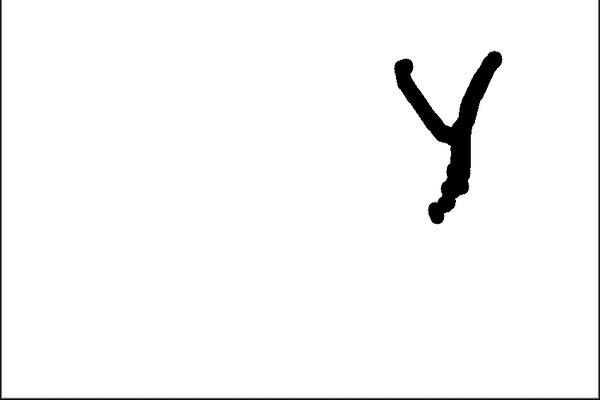Y: (379, 39, 503, 233)
